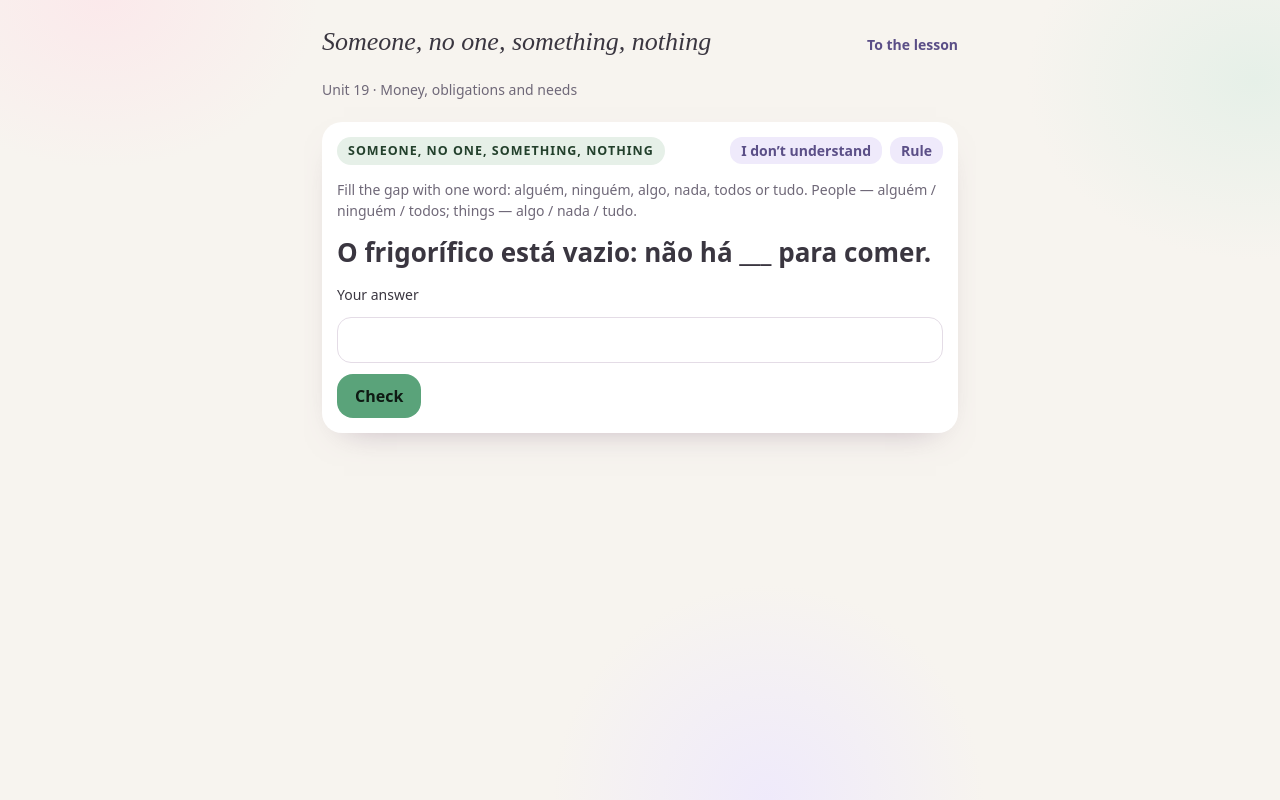
"I don't understand" help › «show the answer» shows the key and meaning, logged as viewed
Click the button with test id "pack-drill-help": (806, 151) [730,138,882,164]
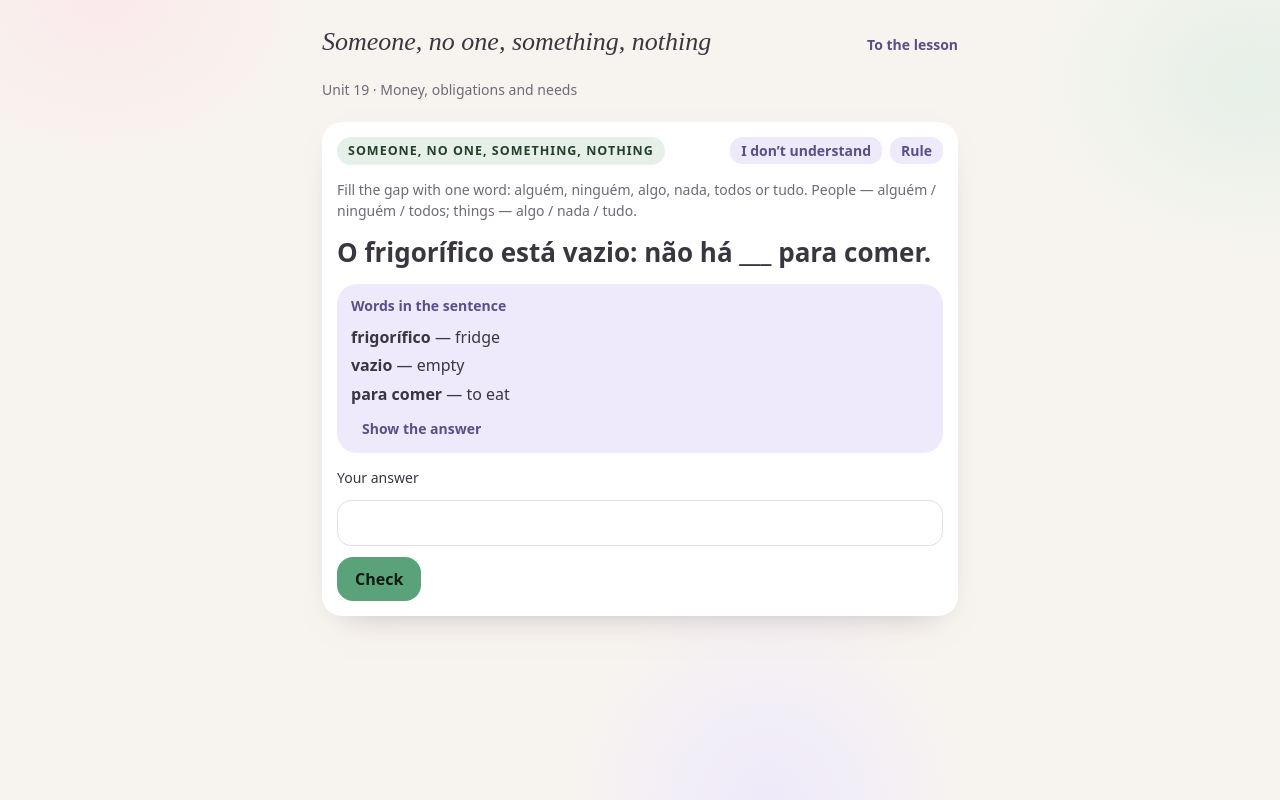
Click the button with test id "pack-drill-reveal": (422, 428) [351,415,492,442]
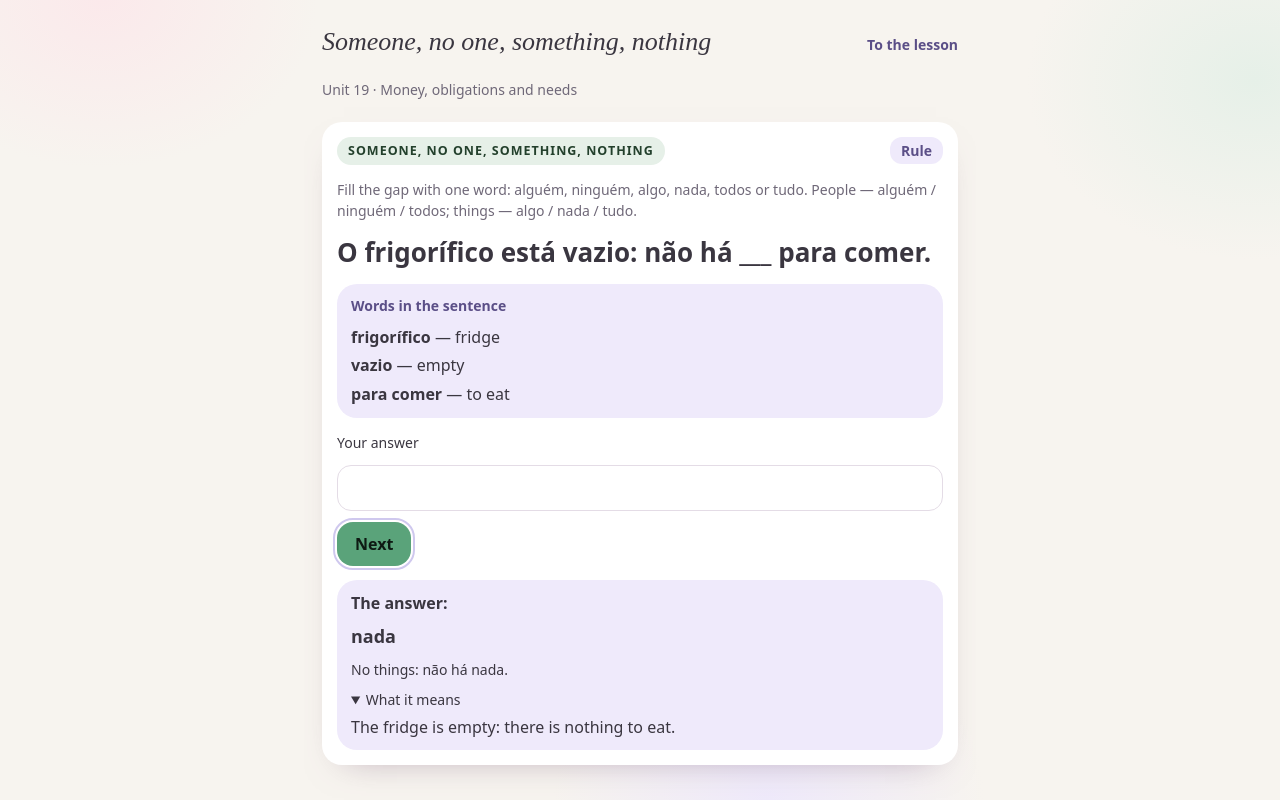
Expected: the text with test id "pack-drill-expected" reads "nada", [351,624,396,648]
